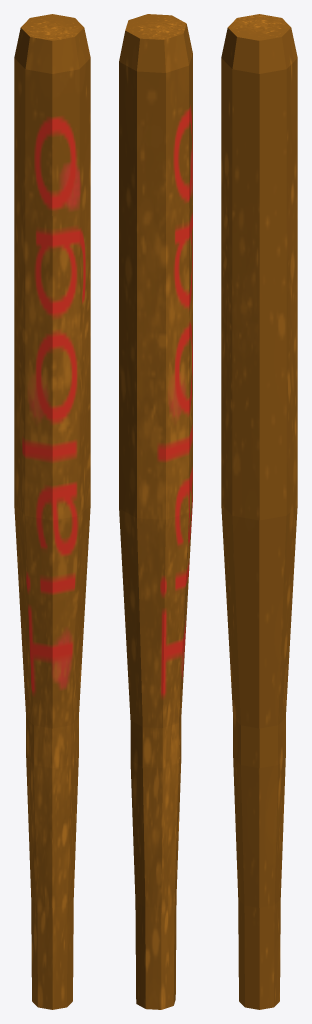
The model's file is pal.fbx.
3 renders of one model, left to right at view 1: azimuth 90°, elevation 25°; view 2: azimuth 150°, elevation 25°; view 3: azimuth 270°, elevation 25°, orthographic.
Parts seen in each view (by area): view 1: pal; view 2: pal; view 3: pal.
Part boxes in pixels (box(x1,y1,x2,y2)): pal: box(14, 14, 90, 1009); pal: box(119, 14, 192, 1009); pal: box(221, 14, 297, 1009).
Bounding box in the file's own units: 6.83 × 95.98 × 6.83.
